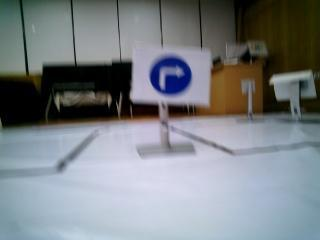right: (139, 53, 202, 99)
